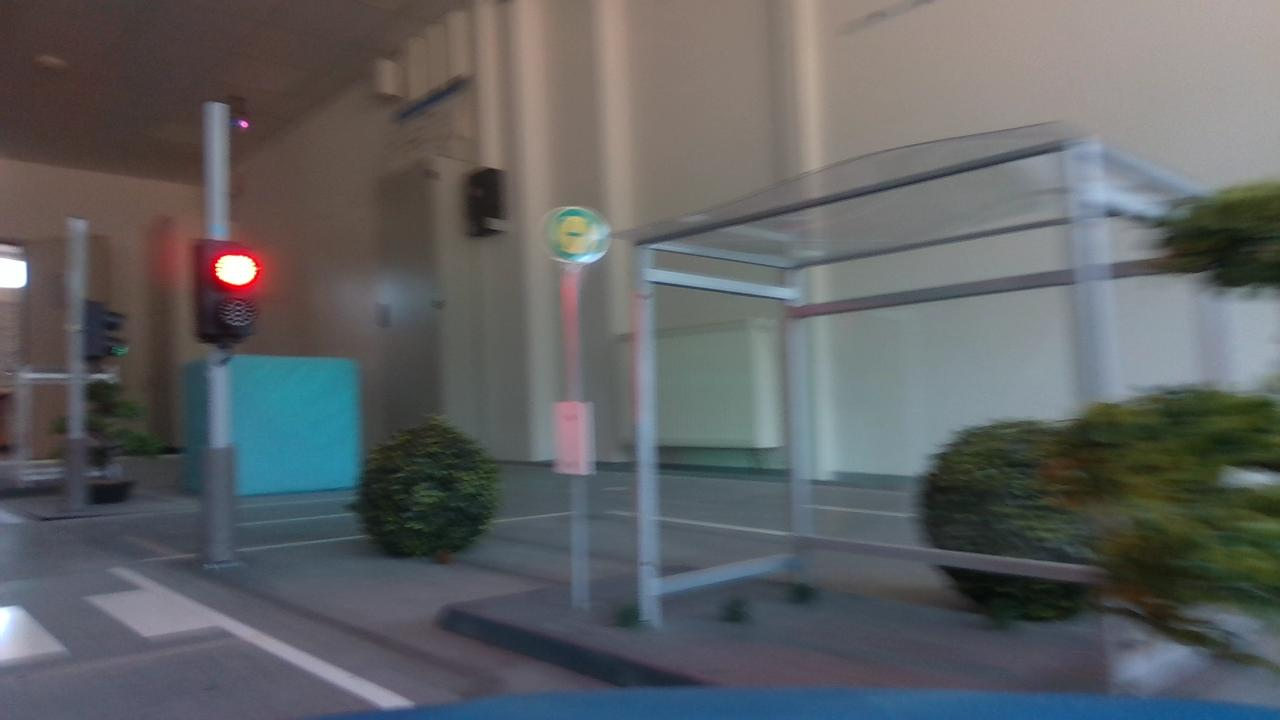traffic_light_red: (174, 231, 273, 360)
